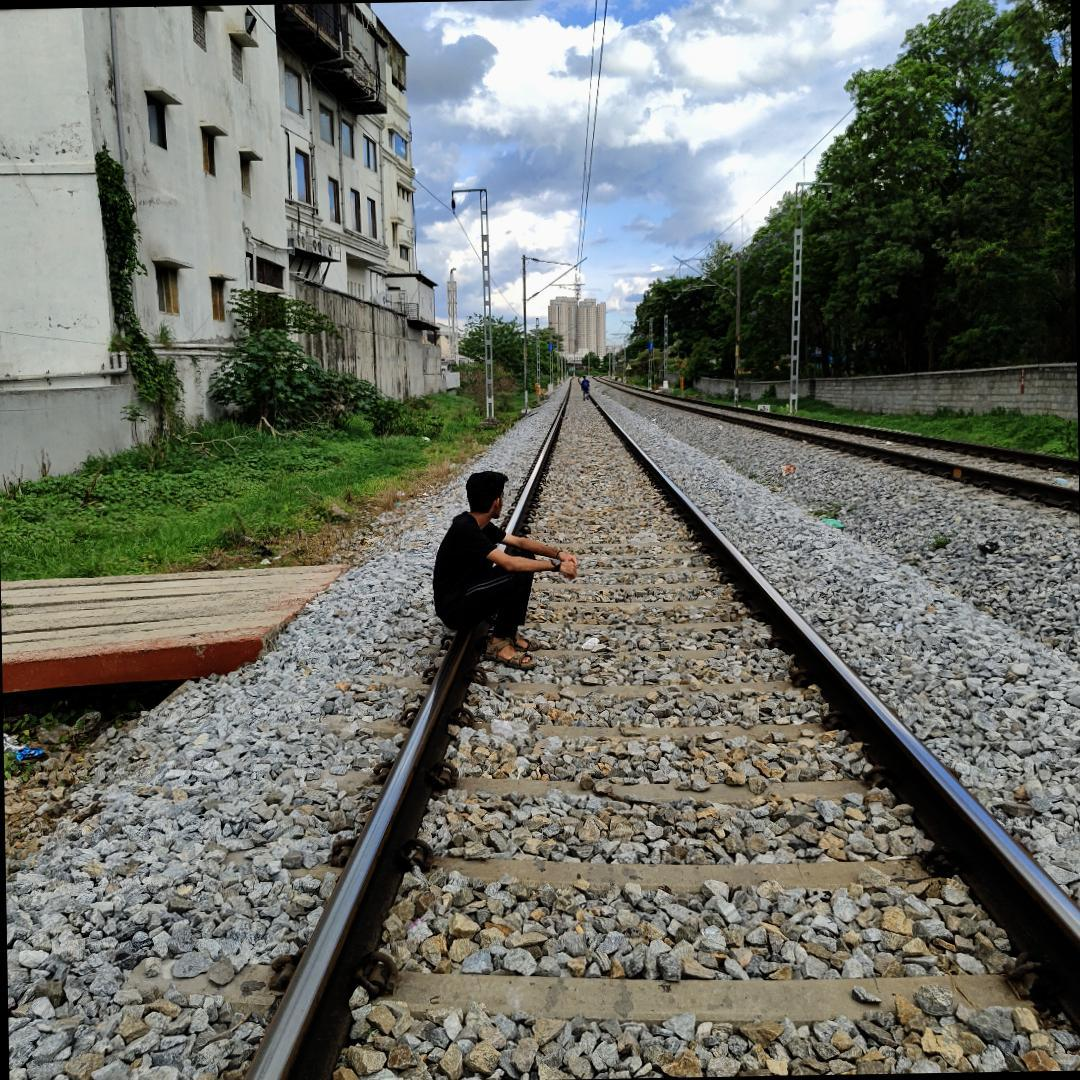sitting: (413, 450, 576, 680)
